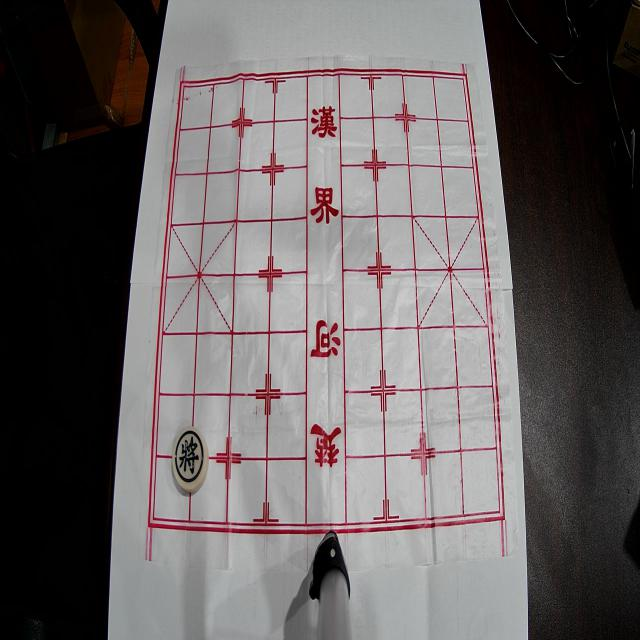black-general: (172, 427, 209, 492)
